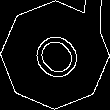O_SE: (22, 22, 88, 88)
